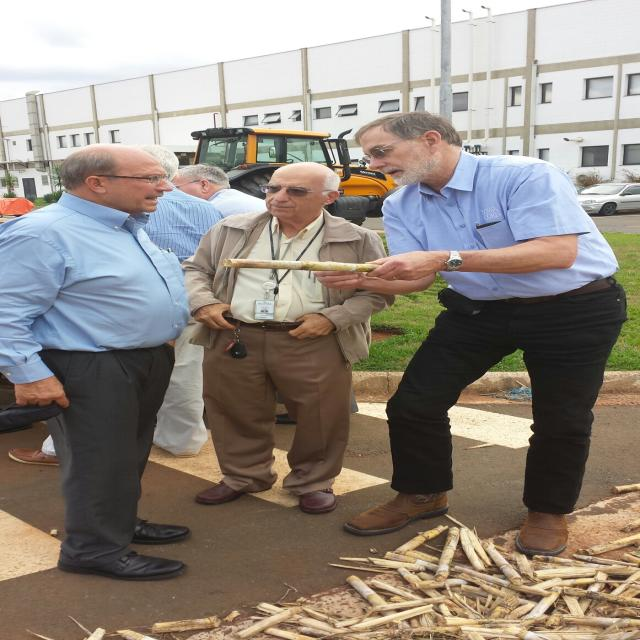body: (309, 110, 633, 560), (0, 141, 201, 583), (174, 158, 400, 516), (7, 142, 196, 469), (168, 162, 270, 219)
